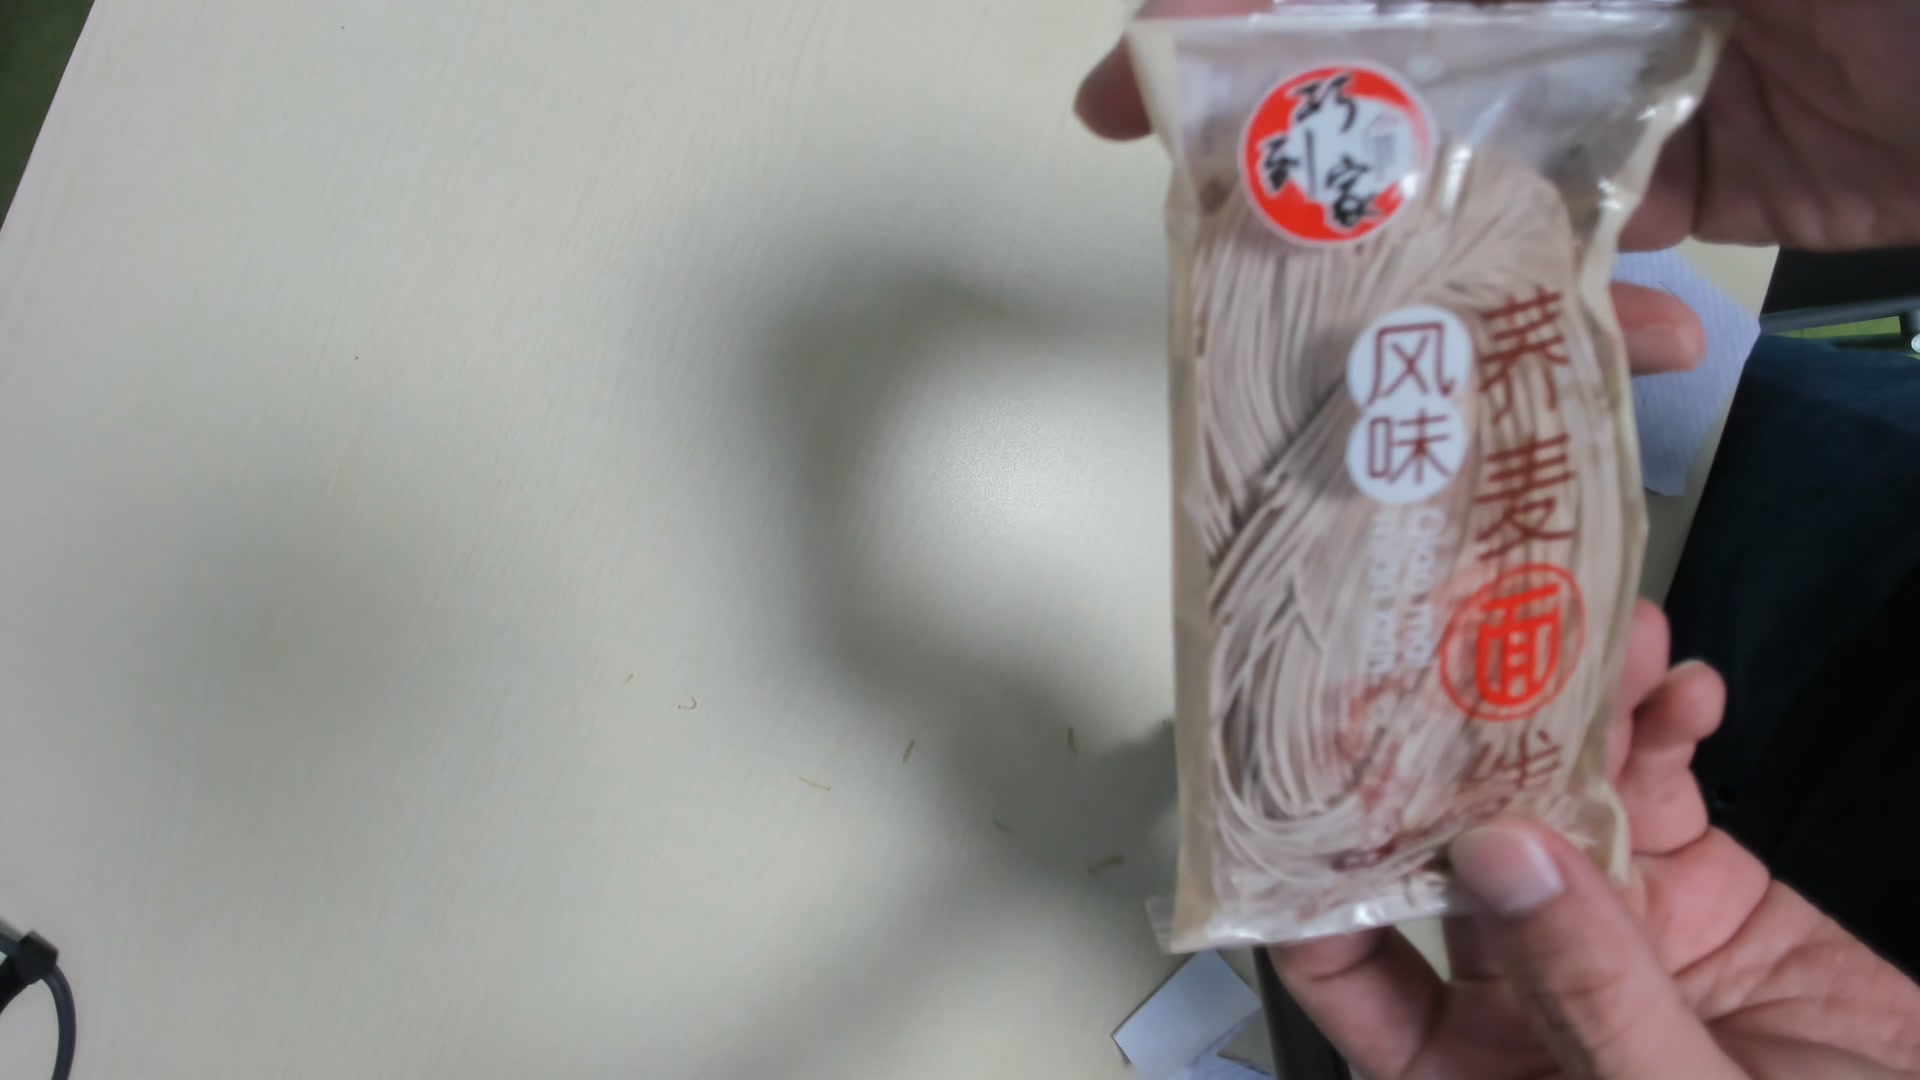BeeHoonVermicelli_0-99g_NonHalal_NonHealthy: (1143, 29, 1644, 972)
